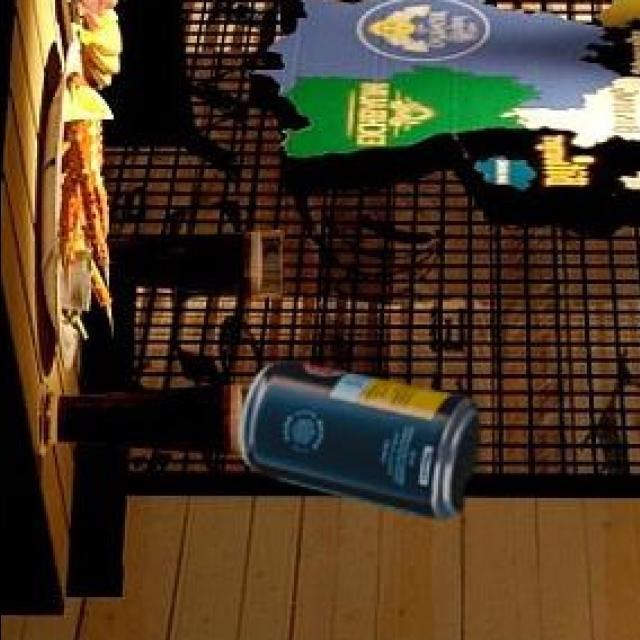logam: (242, 366, 481, 524)
